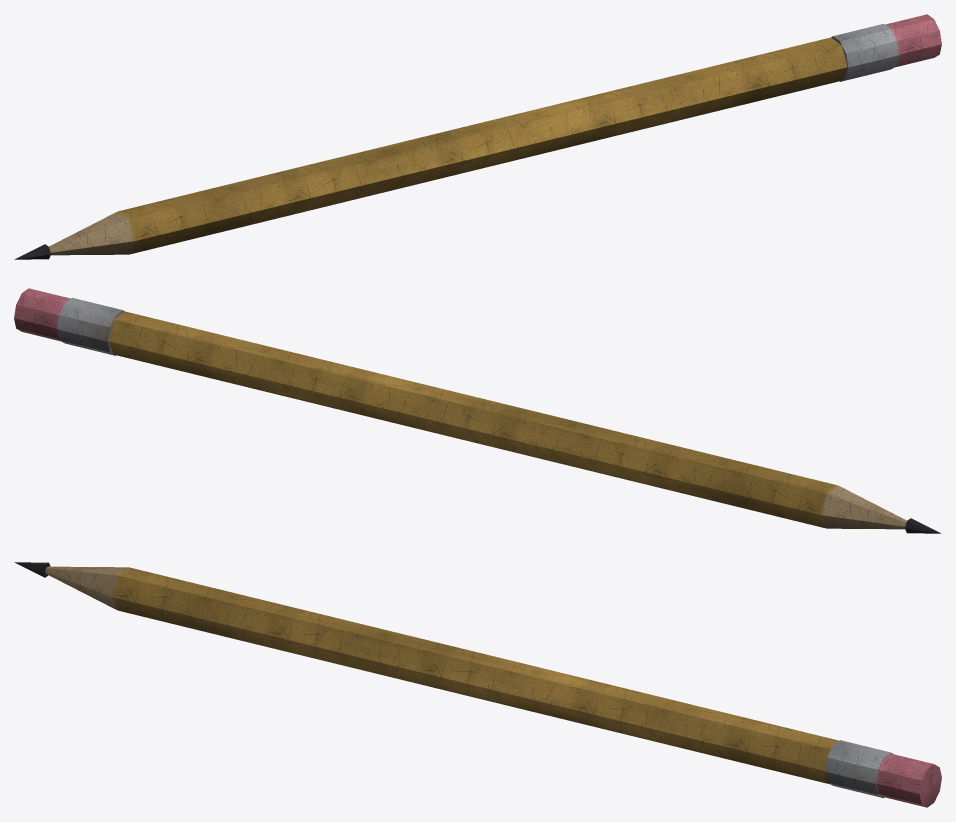
File: pencil.glb
3 renders of one model, top to bottom at view 1: azimuth 30°, elevation 25°; view 2: azimuth 150°, elevation 25°; view 3: azimuth 330°, elevation 25°, orthographic.
Visible parts, largest first — view 1: group_0; view 2: group_0; view 3: group_0.
Boxes of the visible parts, x1,y1,x2,y2 form: group_0: (14, 14, 941, 259); group_0: (14, 288, 941, 533); group_0: (14, 562, 941, 807).
Size of the model in its own units: 17.99 by 0.7589 by 0.798.
Materials: 5 (5 with a texture image).
